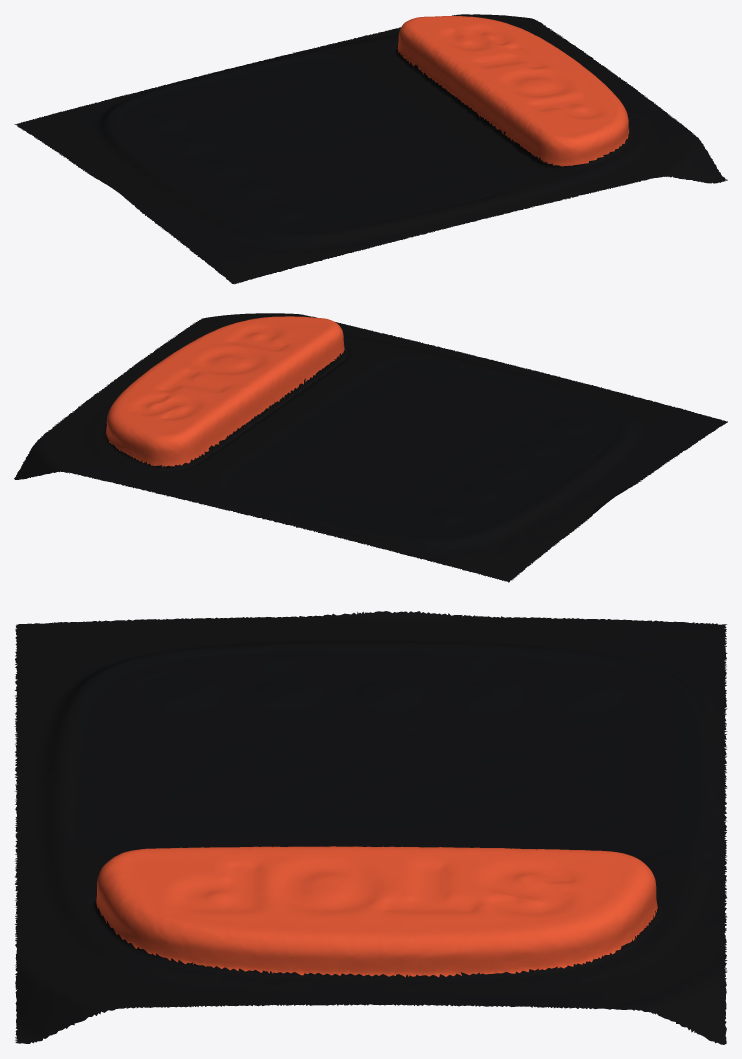
File: panel.glb
3 renders of one model, top to bottom at view 1: azimuth 30°, elevation 25°; view 2: azimuth 150°, elevation 25°; view 3: azimuth 270°, elevation 25°, orthographic. The views are drawn at different scales.
Visible parts, largest first — view 1: Controls; view 2: Controls; view 3: Controls.
Boxes of the visible parts, left/top/right/bottom form: Controls: left=14, top=14, right=727, bottom=284; Controls: left=14, top=313, right=727, bottom=582; Controls: left=14, top=611, right=727, bottom=1044.
Bounding box in the file's own units: 0.1628 × 0.0172 × 0.1248.
